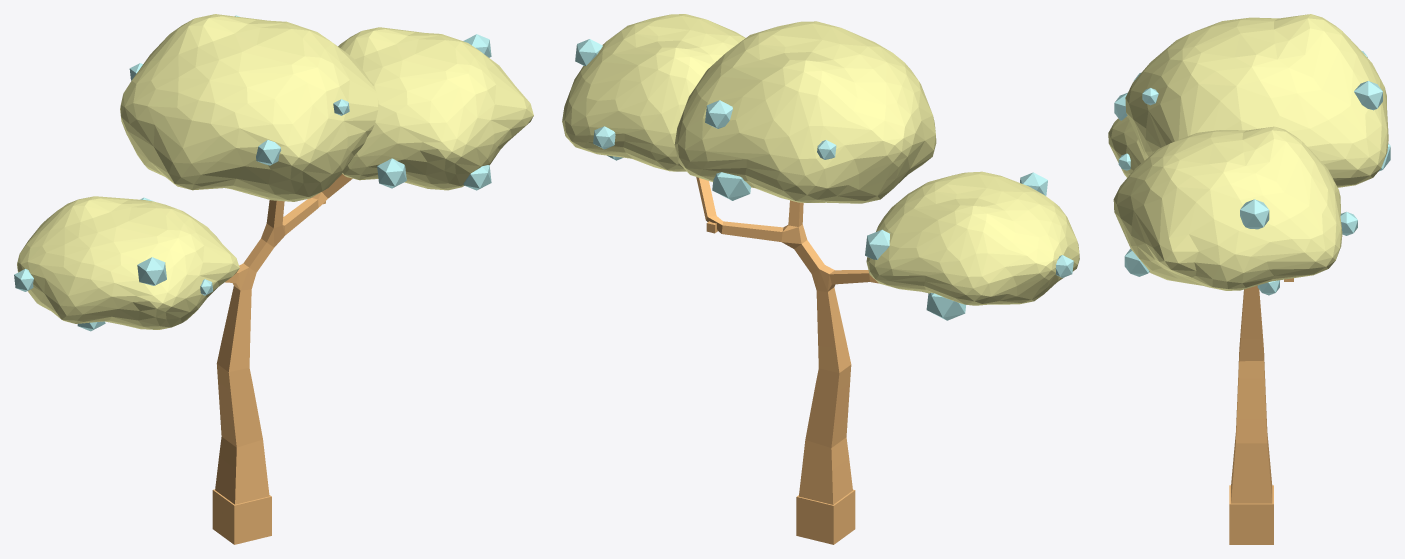
Rendered from tree3.gltf.
3 renders of one model, left to right at view 1: azimuth 30°, elevation 25°; view 2: azimuth 150°, elevation 25°; view 3: azimuth 270°, elevation 25°, orthographic. The views are drawn at different scales.
Parts seen in each view (by area): view 1: Tree2, Tree2.002, Tree2.001; view 2: Tree2, Tree2.002, Tree2.001; view 3: Tree2, Tree2.002, Tree2.001.
Part boxes in pixels (x1,y1,x2,y2): Tree2: [17, 14, 533, 329]; Tree2.002: [212, 174, 352, 544]; Tree2.001: [14, 15, 491, 331]; Tree2: [562, 14, 1079, 305]; Tree2.002: [696, 177, 878, 544]; Tree2.001: [575, 39, 1073, 320]; Tree2: [1108, 14, 1388, 290]; Tree2.002: [1229, 278, 1293, 544]; Tree2.001: [1114, 51, 1390, 295].
Bounding box in the file's own units: 12.03 × 11.52 × 5.74.
